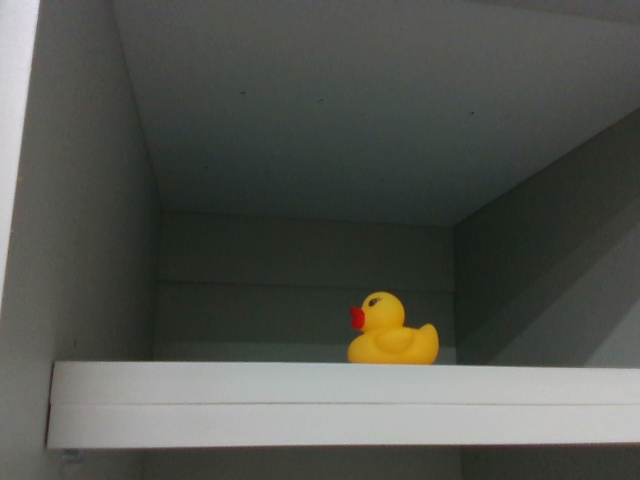duck: (341, 286, 441, 361)
